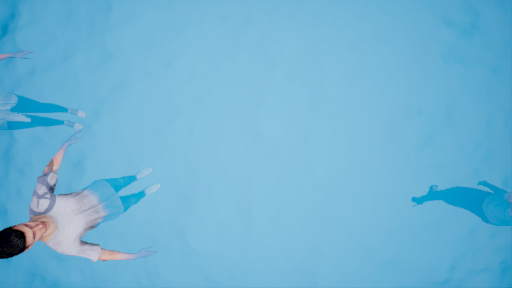person: (2, 136, 169, 268)
